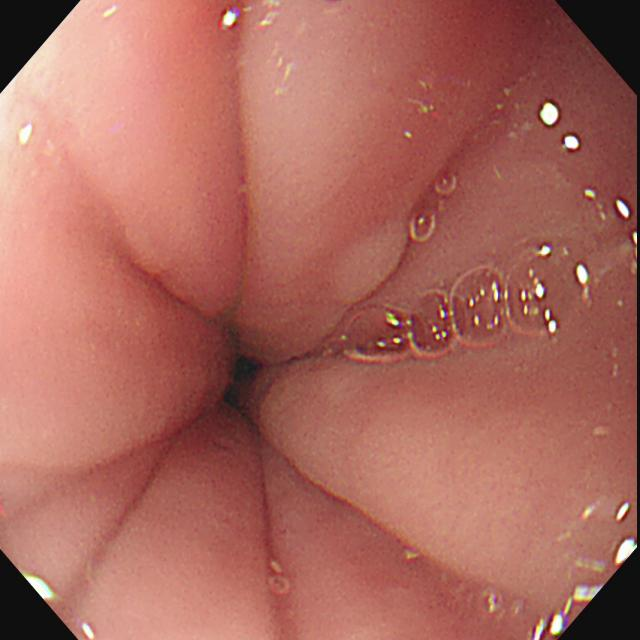I: (135, 254, 349, 517)
T: (348, 245, 571, 361), (411, 172, 460, 246), (265, 556, 293, 600)
U: (530, 582, 605, 640), (538, 100, 582, 153), (614, 501, 639, 567), (19, 568, 60, 607), (617, 194, 638, 261), (575, 261, 596, 311), (15, 121, 39, 150), (218, 10, 242, 35), (101, 3, 120, 22), (79, 622, 98, 640)
